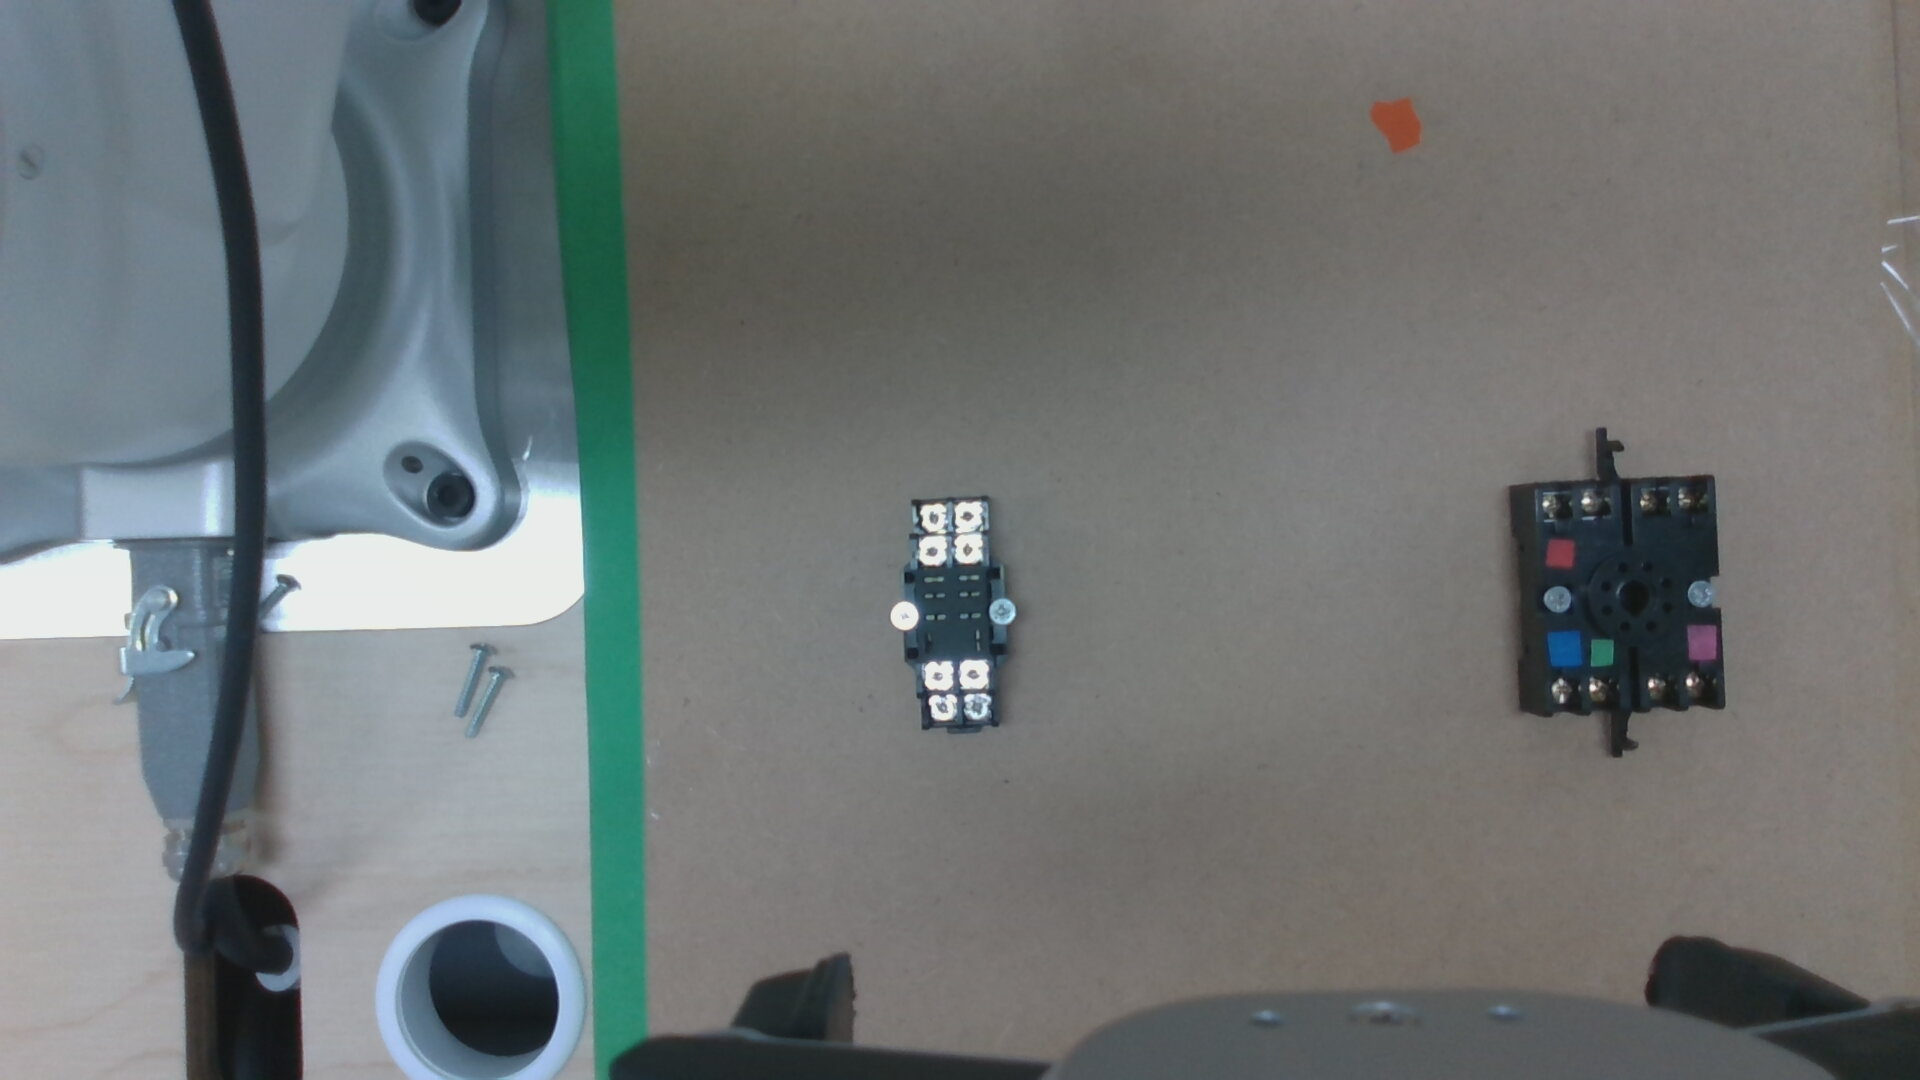relay 3: (955, 505, 980, 527)
relay 4: (918, 508, 945, 531)
relay 5: (963, 695, 988, 717)
relay 6: (928, 696, 955, 719)
relay 7: (960, 661, 985, 686)
relay 8: (924, 665, 951, 687)
